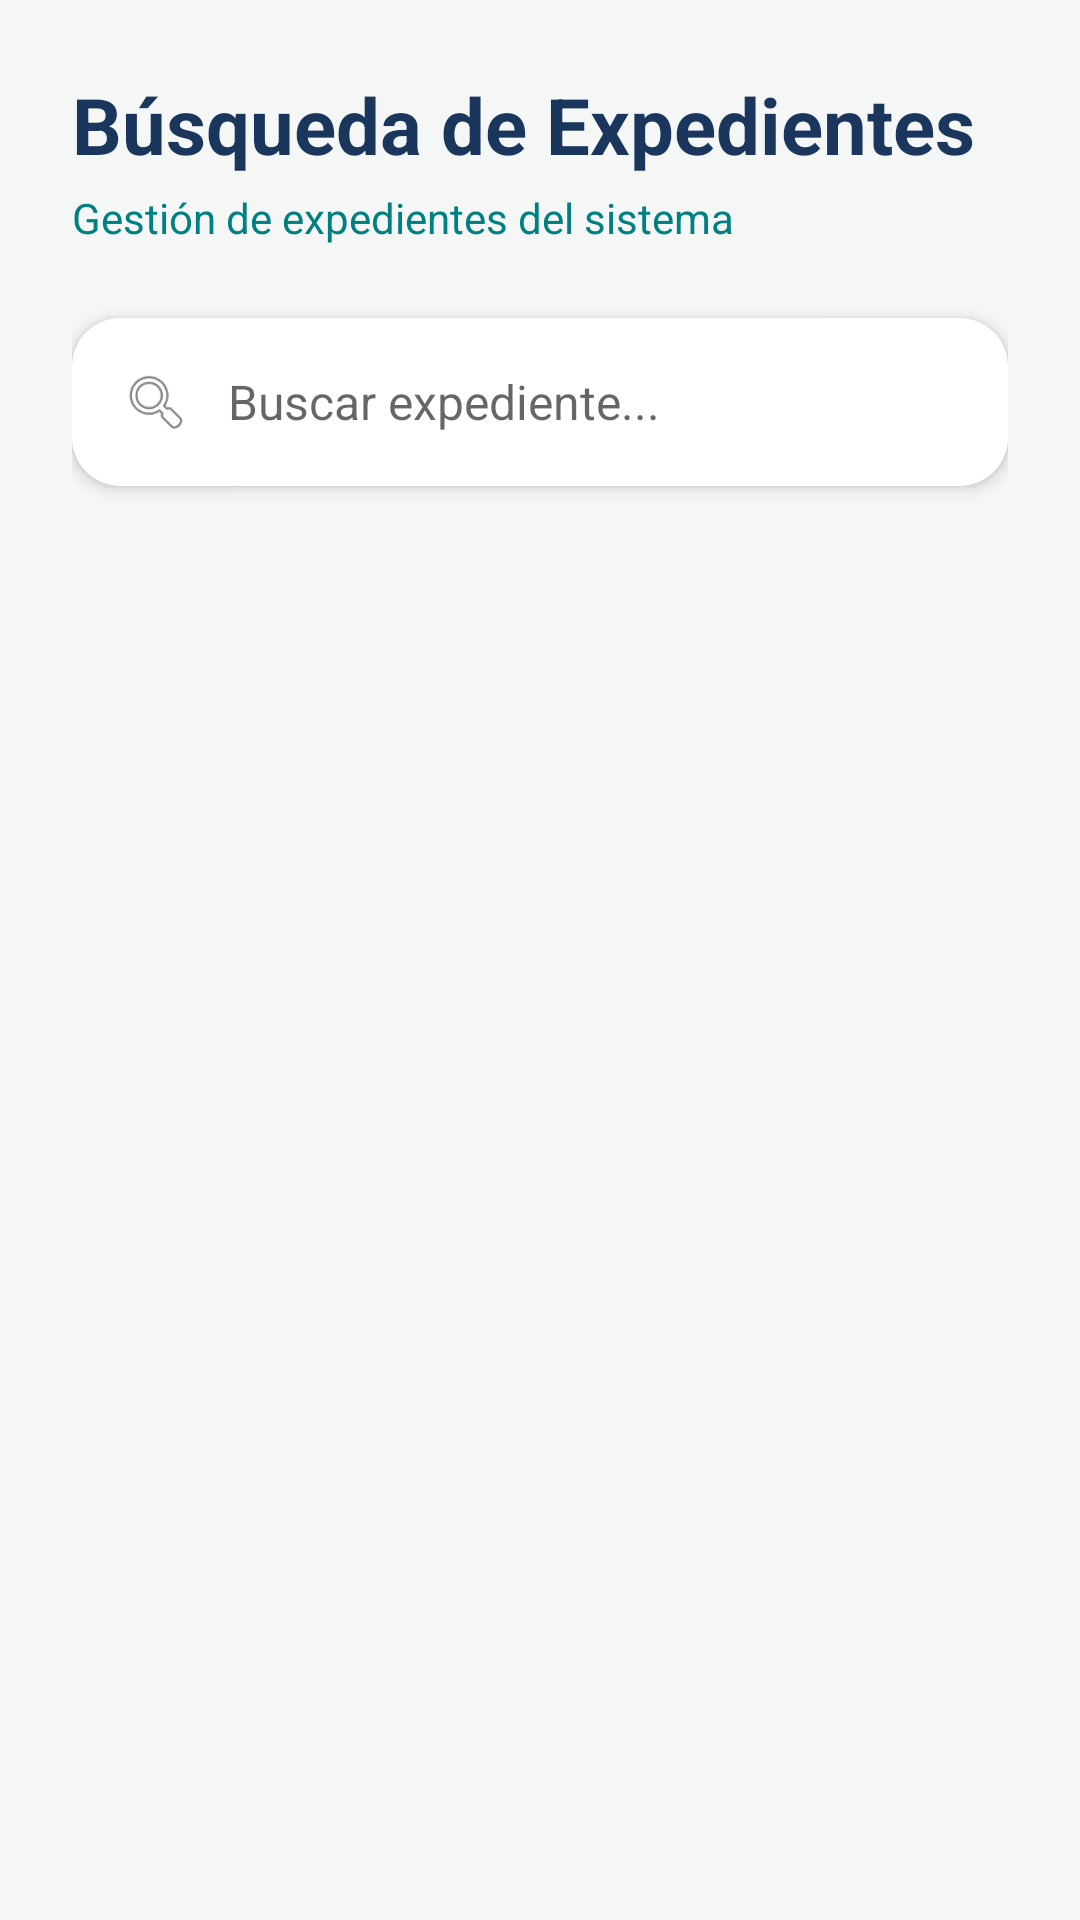

Icon bounding boxes for this 1080 x 1920 phone screenshot, format (x1, y1, x2, y2):
search: (129, 376, 183, 429)
